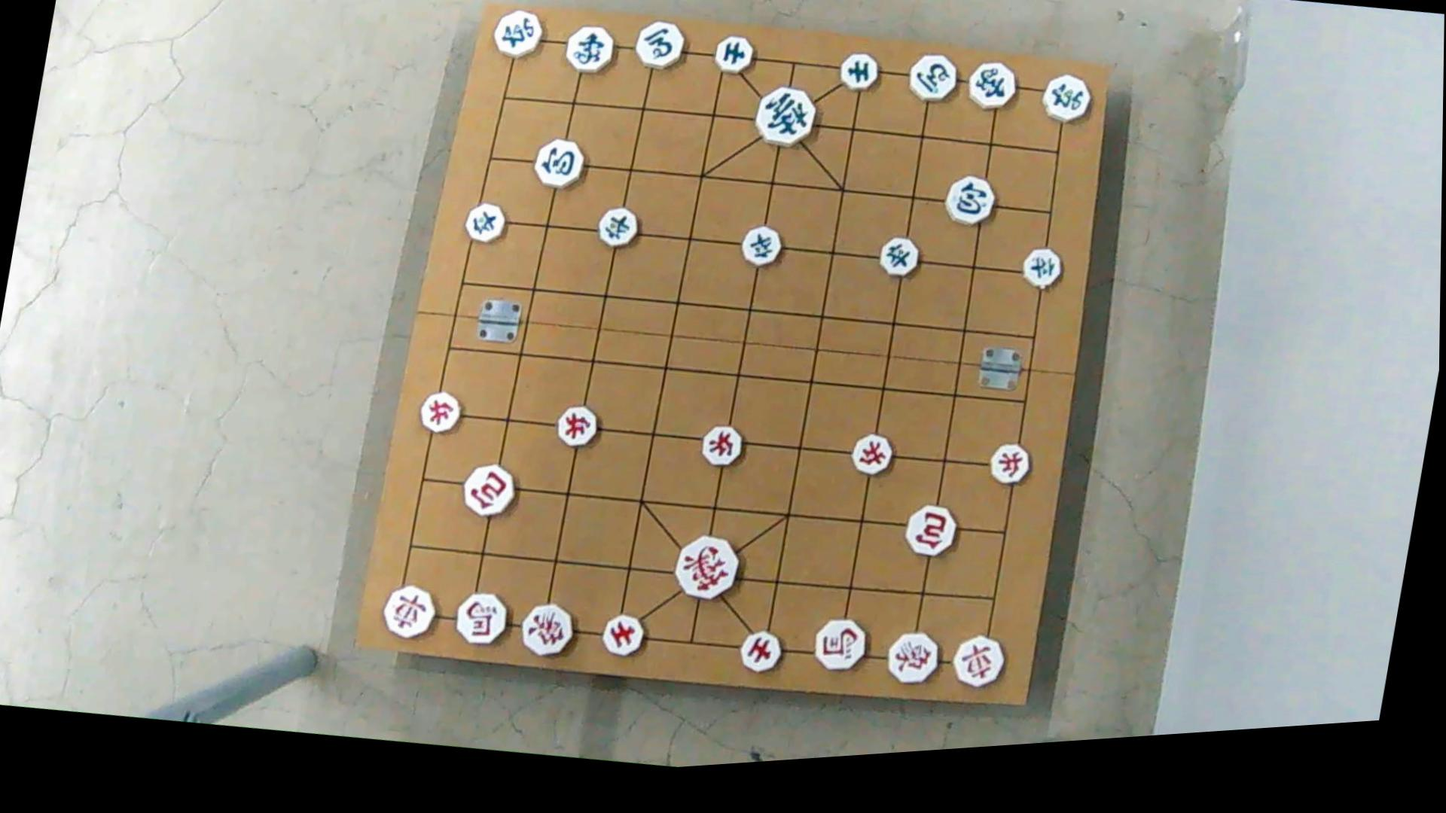cha_green: (487, 3, 548, 60), (1041, 68, 1093, 122)
cha_red: (947, 632, 1009, 692), (377, 582, 439, 641)
jol_green: (592, 202, 643, 249), (735, 224, 785, 269), (874, 233, 923, 278), (464, 199, 511, 244), (1017, 246, 1065, 290)
jol_red: (982, 438, 1033, 485), (414, 388, 466, 434), (697, 422, 746, 467), (847, 432, 895, 477), (554, 403, 603, 447)
ma_green: (902, 50, 962, 105), (630, 16, 689, 70)
ma_red: (451, 589, 513, 648), (811, 616, 871, 674)
po_green: (527, 136, 587, 191), (940, 172, 999, 226)
po_red: (901, 501, 962, 559), (456, 461, 517, 519)
sa_green: (709, 32, 756, 75), (834, 49, 880, 92)
sa_red: (597, 607, 646, 659), (733, 626, 783, 674)
sang_green: (964, 54, 1022, 112), (558, 20, 618, 73)
sang_red: (516, 597, 577, 660), (879, 626, 941, 687)
wang_green: (749, 82, 819, 148)
wang_red: (668, 534, 742, 605)
